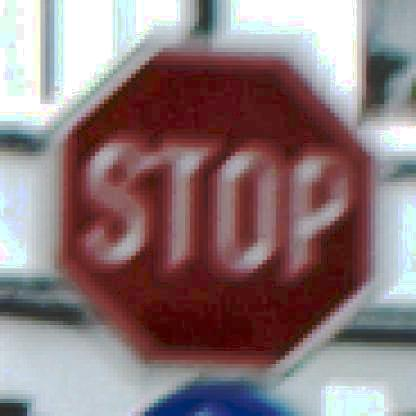Stop Sign: (46, 37, 390, 381)
